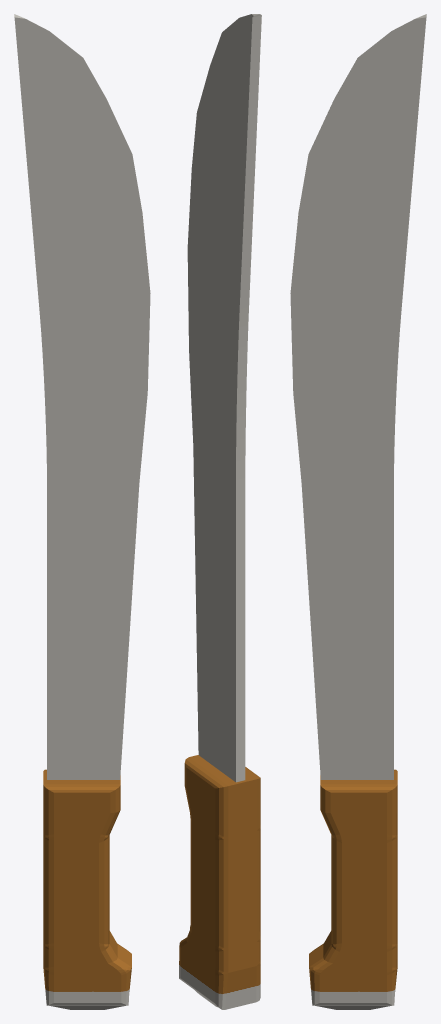
Rendered from Machete.fbx.
The picture shows the model from 3 angles, left to right: view 1: azimuth 90°, elevation 25°; view 2: azimuth 210°, elevation 25°; view 3: azimuth 270°, elevation 25°; orthographic projection. The views are drawn at different scales.
Visible parts, largest first — view 1: Cube; view 2: Cube; view 3: Cube.
Boxes of the visible parts, x1,y1,x2,y2 form: Cube: (14,14,150,1009); Cube: (179,14,261,1009); Cube: (290,14,426,1009).
Size of the model in its own units: 26.61 by 585 by 72.94.
